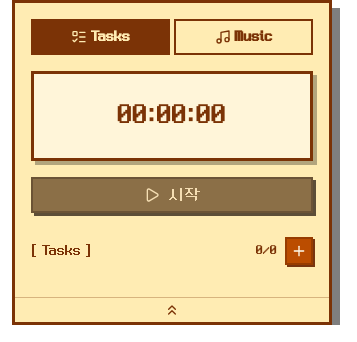
Test case: FocusPanel › 접기 버튼 클릭 시 패널이 접힌다
Click the button named "패널 접기": point(172, 310) [15, 297, 329, 322]
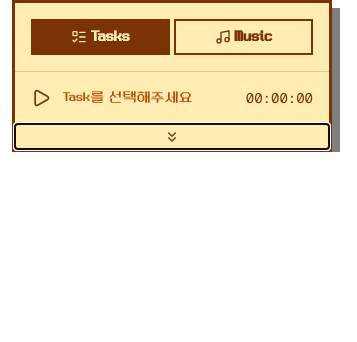
Expected: the button named "패널 펼치기" is shown, [15, 124, 329, 149]
